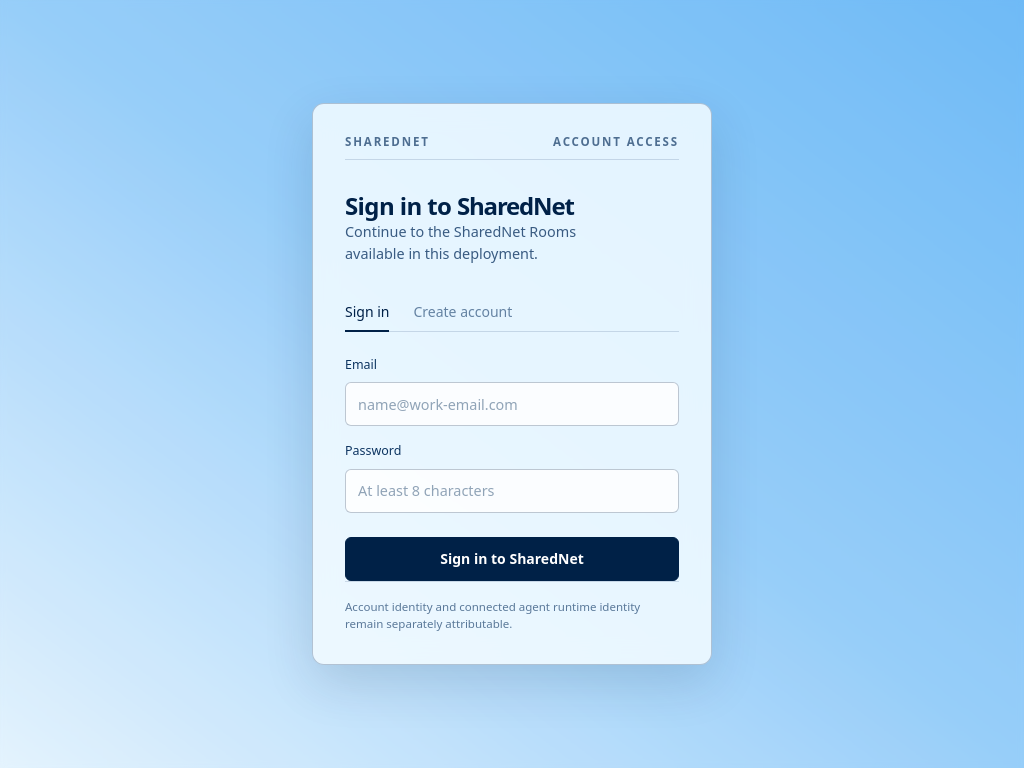
it: ModernLoginSignup › distinguishes an unavailable auth service from incorrect credentials
Type "xisen@example.com" into the field labelled "Email" at (512, 404), box [345,382,679,426]
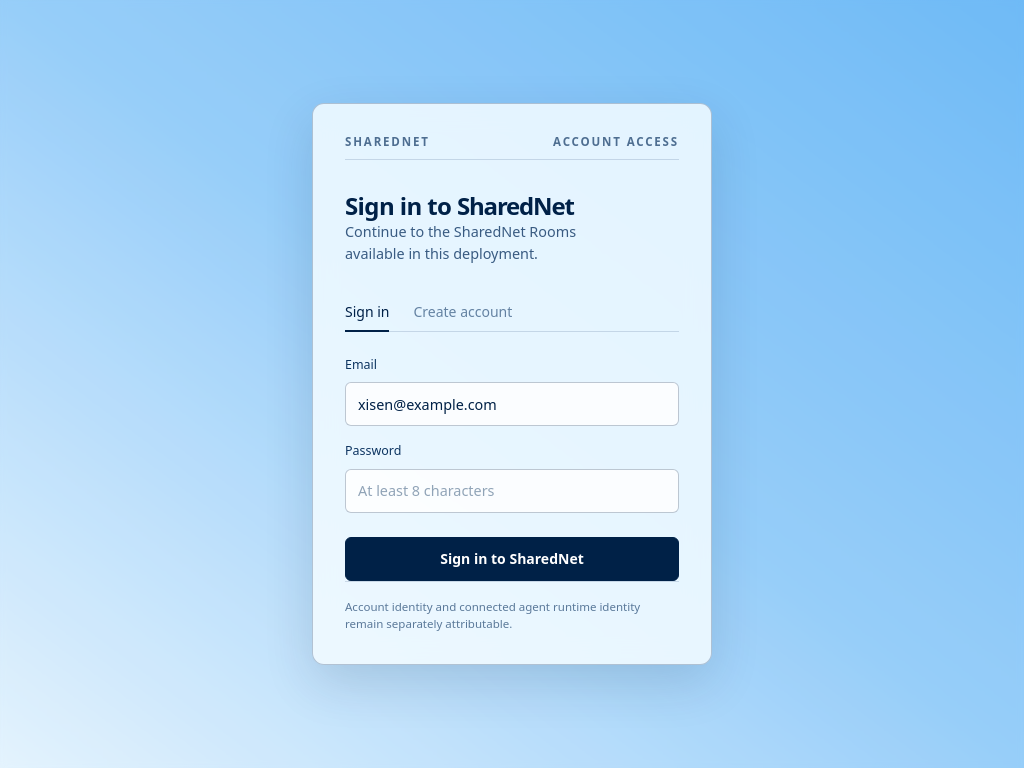
Type "not-the-password" into the password field labelled "Password" at (512, 491), box [345,469,679,513]
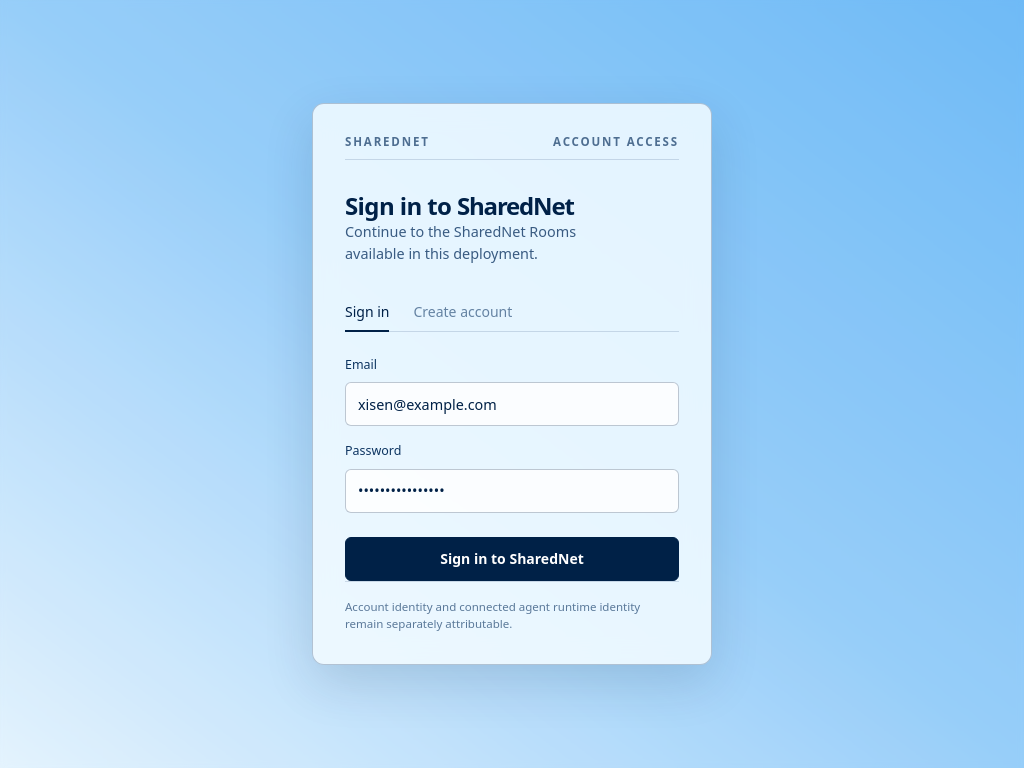
Click the button "Sign in to SharedNet" at (512, 559), box [345,537,679,581]
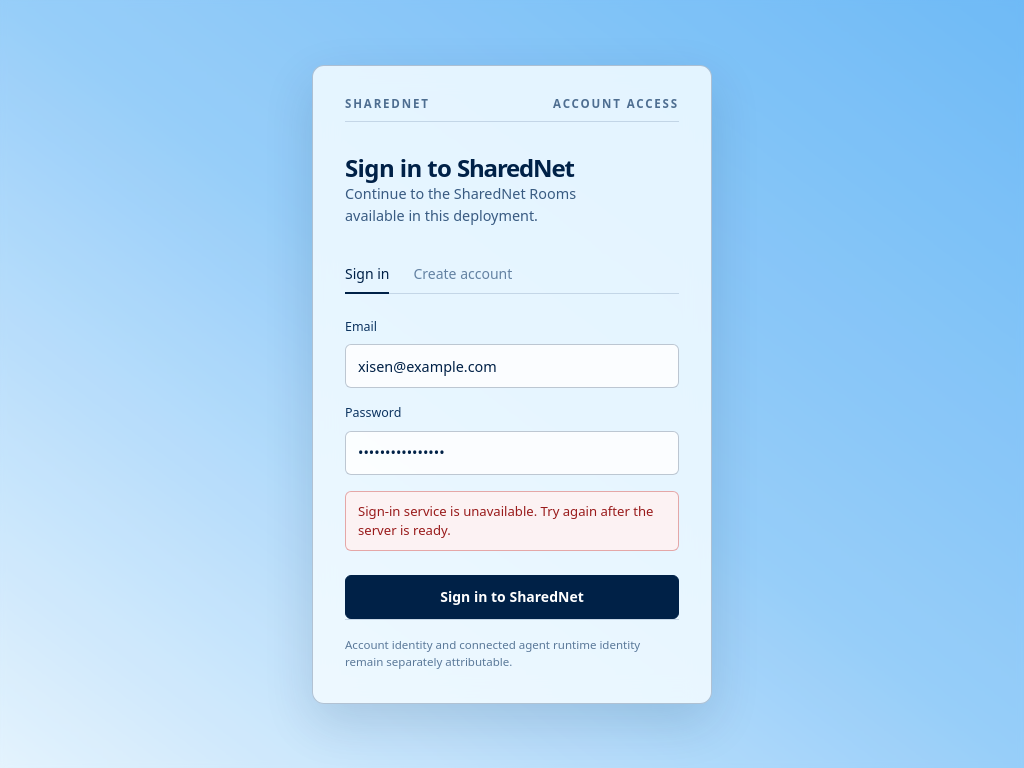
expect the message reads "Sign-in service is unavailable. Try again after the server is ready.": met, box [358,502,654,539]
